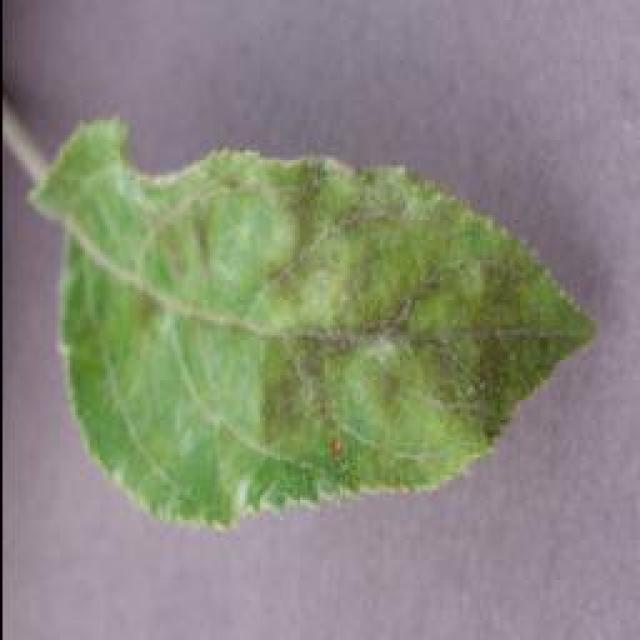apple scab disease: (25, 115, 597, 530)
